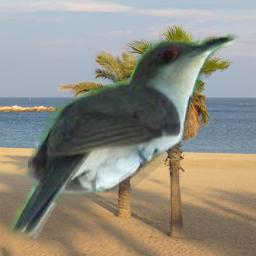Cuckoo: (9, 34, 239, 240)
